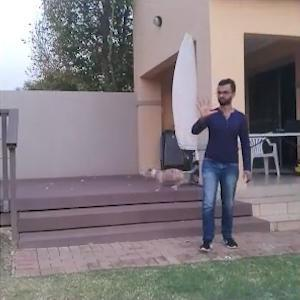follow_hand: (189, 91, 218, 119)
